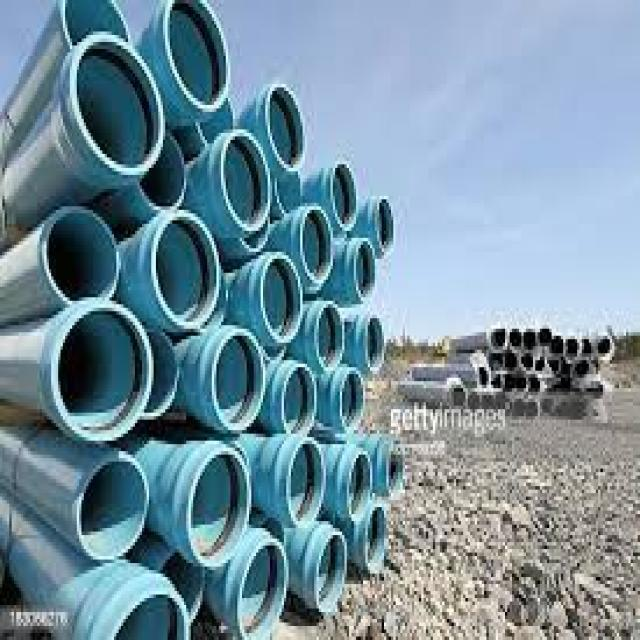pipe: (52, 301, 151, 443), (72, 31, 165, 174), (150, 207, 222, 334), (76, 455, 150, 562), (42, 204, 119, 306), (185, 449, 250, 569), (164, 1, 230, 113), (218, 129, 274, 234), (212, 331, 266, 432), (237, 538, 290, 640), (136, 128, 188, 213), (259, 251, 305, 347), (285, 437, 327, 534), (264, 82, 309, 172), (111, 590, 191, 640), (59, 0, 130, 51), (298, 205, 335, 287), (314, 530, 348, 618), (280, 364, 320, 436), (328, 157, 362, 234), (314, 300, 347, 373), (363, 502, 394, 579), (336, 364, 367, 439), (345, 447, 374, 527), (351, 234, 379, 305), (379, 434, 410, 496), (362, 312, 388, 378), (373, 195, 397, 258), (447, 376, 469, 411), (485, 322, 508, 354), (474, 359, 492, 393), (595, 332, 614, 361), (564, 335, 583, 364), (508, 323, 525, 355), (547, 332, 565, 362), (512, 371, 530, 396), (537, 324, 553, 352), (502, 348, 518, 373), (525, 325, 538, 354), (519, 352, 536, 374), (581, 337, 595, 363), (534, 356, 551, 377), (491, 372, 506, 395)
